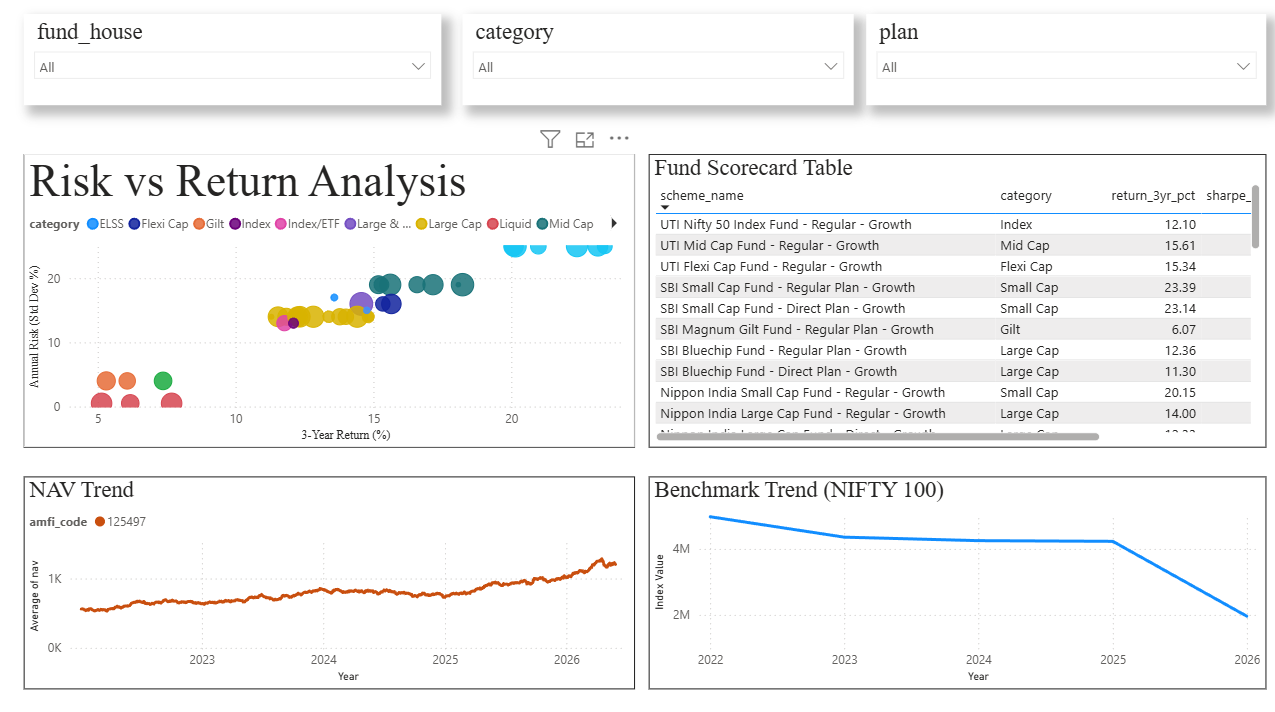

The page's visual inventory and layout, read from the dashboard file:
{"tool":"powerbi","page":{"name":"Fund Performance","canvas":[1280,720],"ordinal":1},"visuals":[{"type":"scatterChart","title":"Risk vs Return Analysis","fields":{"X":["07_scheme_performance_cleaned.return_3yr_pct"],"Y":["07_scheme_performance_cleaned.std_dev_ann_pct"],"Size":["Sum(07_scheme_performance_cleaned.aum_crore)"],"Series":["07_scheme_performance_cleaned.category"]},"box":[28.8,160,611.2,293.8],"z":0},{"type":"tableEx","title":"Fund Scorecard Table","fields":{"Values":["07_scheme_performance_cleaned.scheme_name","07_scheme_performance_cleaned.category","07_scheme_performance_cleaned.return_3yr_pct","07_scheme_performance_cleaned.sharpe_ratio","07_scheme_performance_cleaned.alpha","07_scheme_performance_cleaned.max_drawdown_pct"]},"box":[653.8,160,617.5,293.8],"z":1000},{"type":"lineChart","title":"NAV Trend","fields":{"Y":["Avg(02_nav_history_cleaned.nav)"],"Series":["02_nav_history_cleaned.amfi_code"],"Category":["02_nav_history_cleaned.date.Variation.Date Hierarchy.Year","02_nav_history_cleaned.date.Variation.Date Hierarchy.Quarter","02_nav_history_cleaned.date.Variation.Date Hierarchy.Month","02_nav_history_cleaned.date.Variation.Date Hierarchy.Day"]},"box":[28.8,482.5,611.2,212.5],"z":2000},{"type":"lineChart","title":"Benchmark Trend (NIFTY 100)","fields":{"Category":["10_benchmark_indices_cleaned.date.Variation.Date Hierarchy.Year","10_benchmark_indices_cleaned.date.Variation.Date Hierarchy.Quarter","10_benchmark_indices_cleaned.date.Variation.Date Hierarchy.Month","10_benchmark_indices_cleaned.date.Variation.Date Hierarchy.Day"],"Y":["Sum(10_benchmark_indices_cleaned.close_value)"]},"box":[653.8,482.5,617.5,212.5],"z":3000},{"type":"slicer","fields":{"Values":["07_scheme_performance_cleaned.fund_house"]},"box":[28.8,20,417.5,91.2],"z":4000},{"type":"slicer","fields":{"Values":["07_scheme_performance_cleaned.category"]},"box":[467.5,20,391.2,91.2],"z":5000},{"type":"slicer","fields":{"Values":["07_scheme_performance_cleaned.plan"]},"box":[871.2,20,400,91.2],"z":6000}]}

Visuals, with their boxes in screenshot pixels (x1, y1, x2, y2), scaled from the page's 1280x720 canvas onto the 1275x712 screenshot:
"Risk vs Return Analysis" scatterChart: 29/158/638/449
"Fund Scorecard Table" tableEx: 651/158/1266/449
"NAV Trend" lineChart: 29/477/638/687
"Benchmark Trend (NIFTY 100)" lineChart: 651/477/1266/687
slicer - 07_scheme_performance_cleaned.fund_house: 29/20/445/110
slicer - 07_scheme_performance_cleaned.category: 466/20/855/110
slicer - 07_scheme_performance_cleaned.plan: 868/20/1266/110
